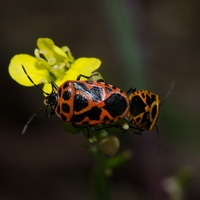insect: (43, 73, 159, 130)
